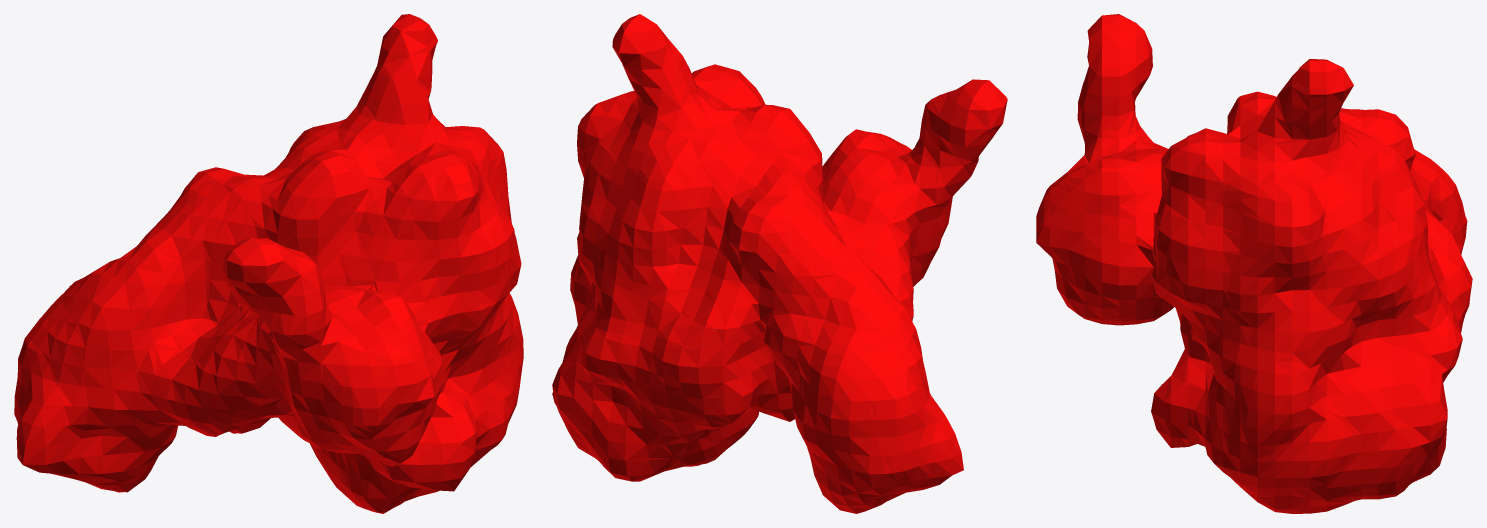
The model's file is mnmG_coarse.dae.
3 views of the same model, side by side, from view 1: azimuth 30°, elevation 25°; view 2: azimuth 150°, elevation 25°; view 3: azimuth 270°, elevation 25° (orthographic). The views are drawn at different scales.
Parts seen in each view (by area): view 1: mnmG; view 2: mnmG; view 3: mnmG.
Part boxes in pixels (x1,y1,x2,y2): mnmG: [14, 14, 523, 513]; mnmG: [552, 14, 1007, 513]; mnmG: [1036, 14, 1472, 513].
Bounding box in the file's own units: 83.91 × 83.53 × 71.18.
